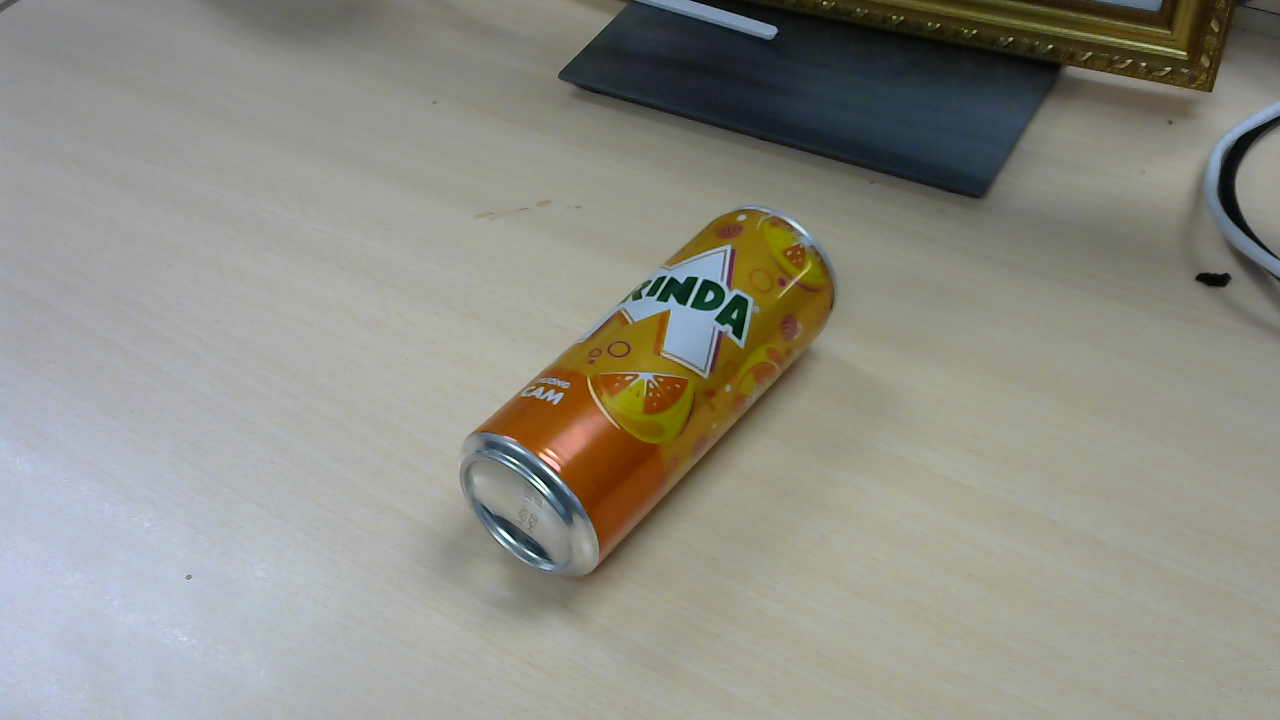Mirinda: (462, 204, 847, 581)
